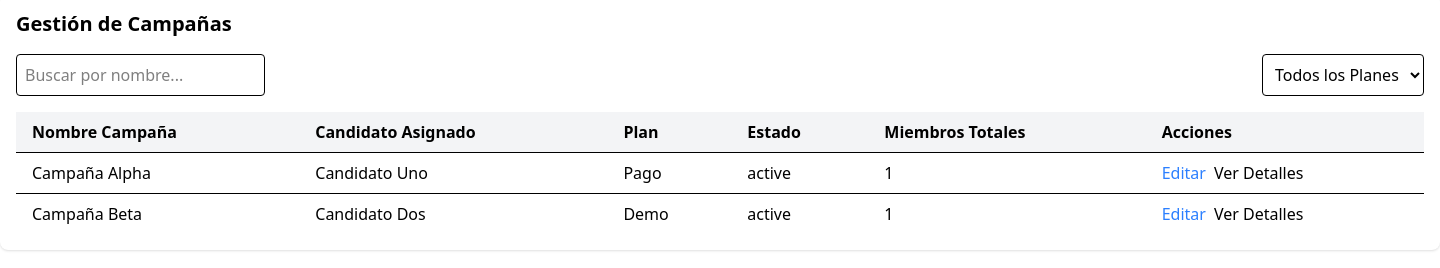
Test: CampaignsTable › filters campaigns by plan
Check: the text "Campaña Alpha" is shown, box [16, 152, 299, 194]
Select "Demo" in the dropdown at (1343, 75), box [1262, 54, 1424, 96]
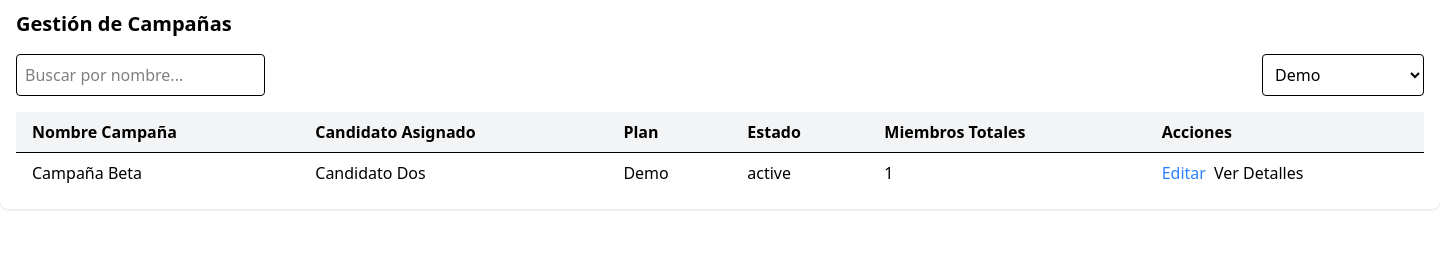
Check: the text "Campaña Beta" is shown, box [16, 152, 299, 193]
Check: the text "Campaña Alpha" is gone
